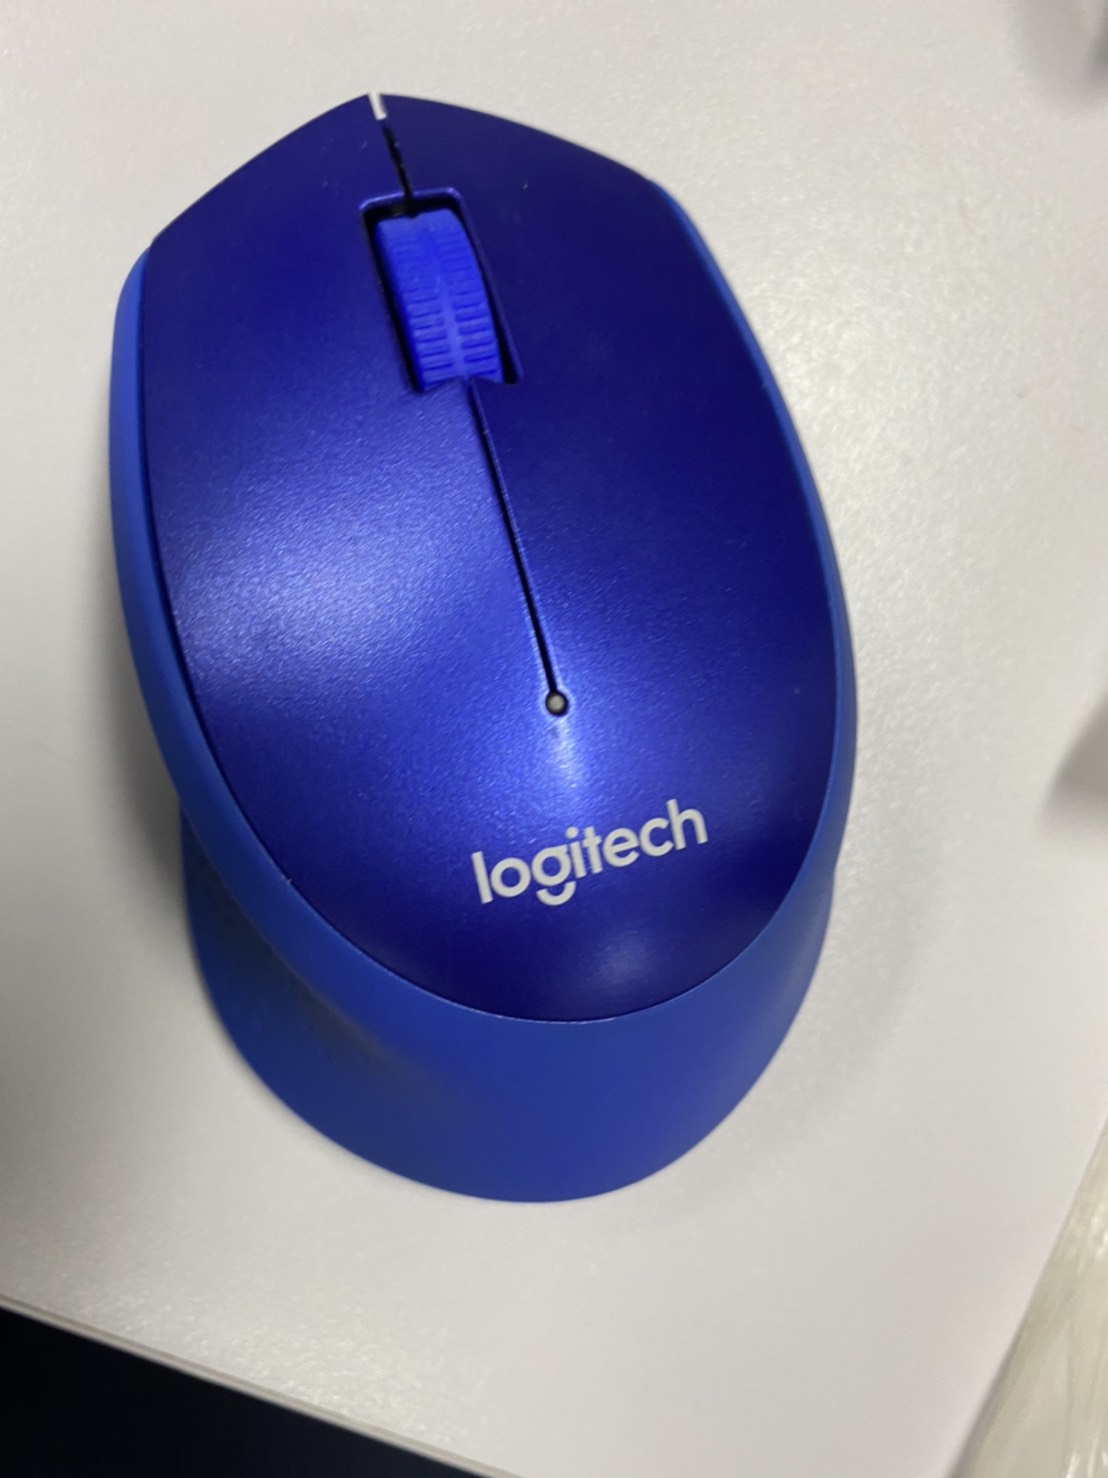mouse: (10, 92, 862, 1209)
